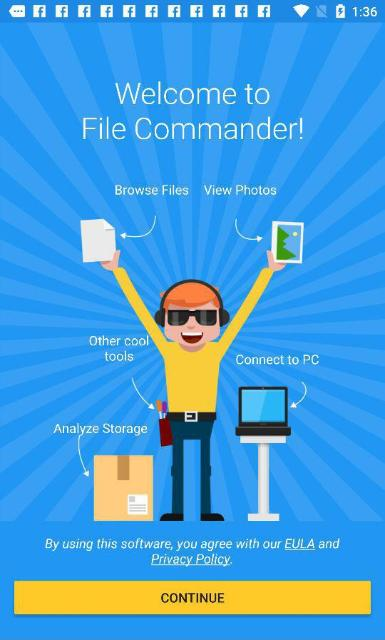BackgroundImage: (0, 23, 384, 639)
Text: (82, 81, 304, 140), (45, 536, 341, 568), (161, 593, 225, 603)
TextButton: (14, 580, 370, 614)
UpperTaskBar: (0, 0, 384, 22)
